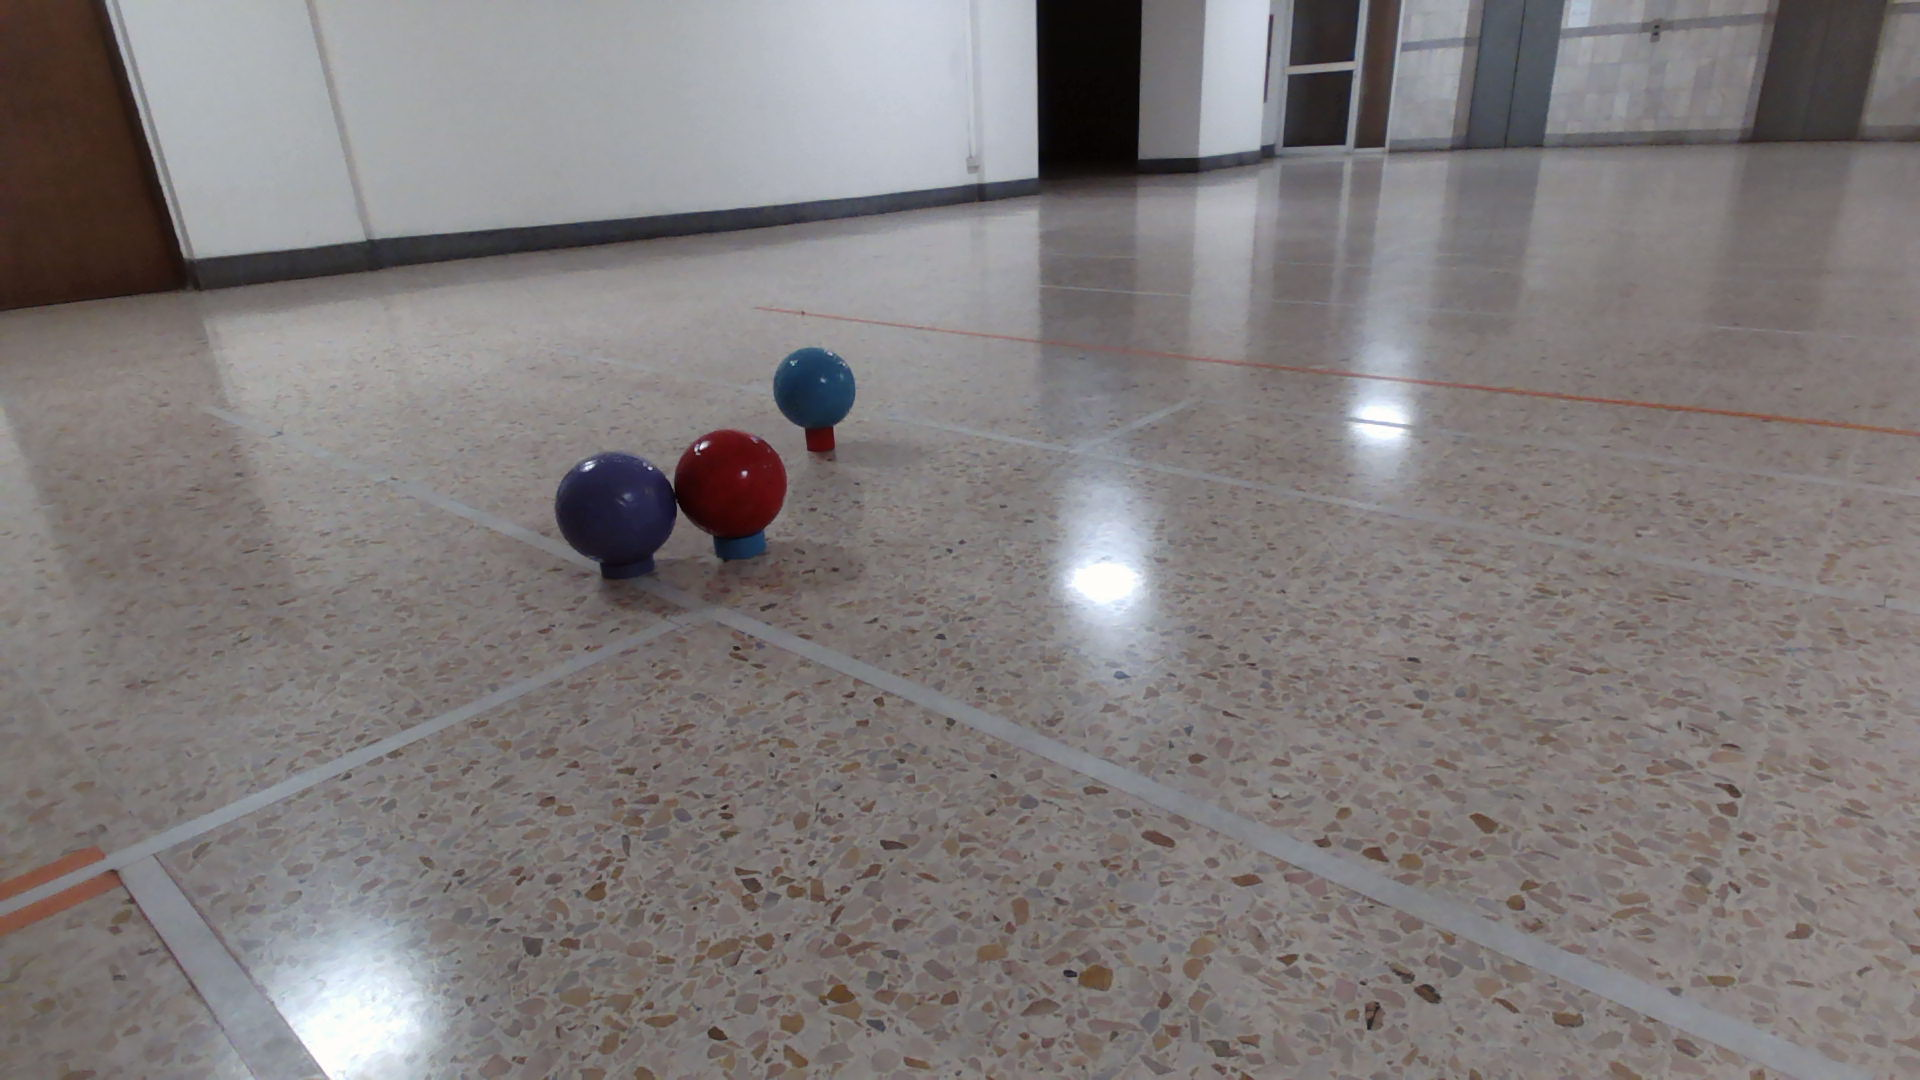Blue ball: (771, 345, 858, 429)
Purple ball: (553, 448, 678, 566)
Red ball: (674, 427, 789, 541)
